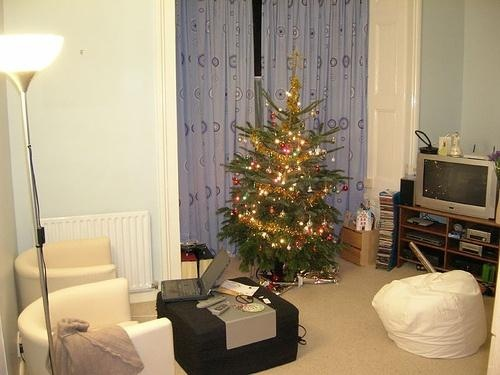chair: (19, 279, 175, 375), (14, 238, 117, 315)
tvmonitor: (418, 153, 498, 220)
